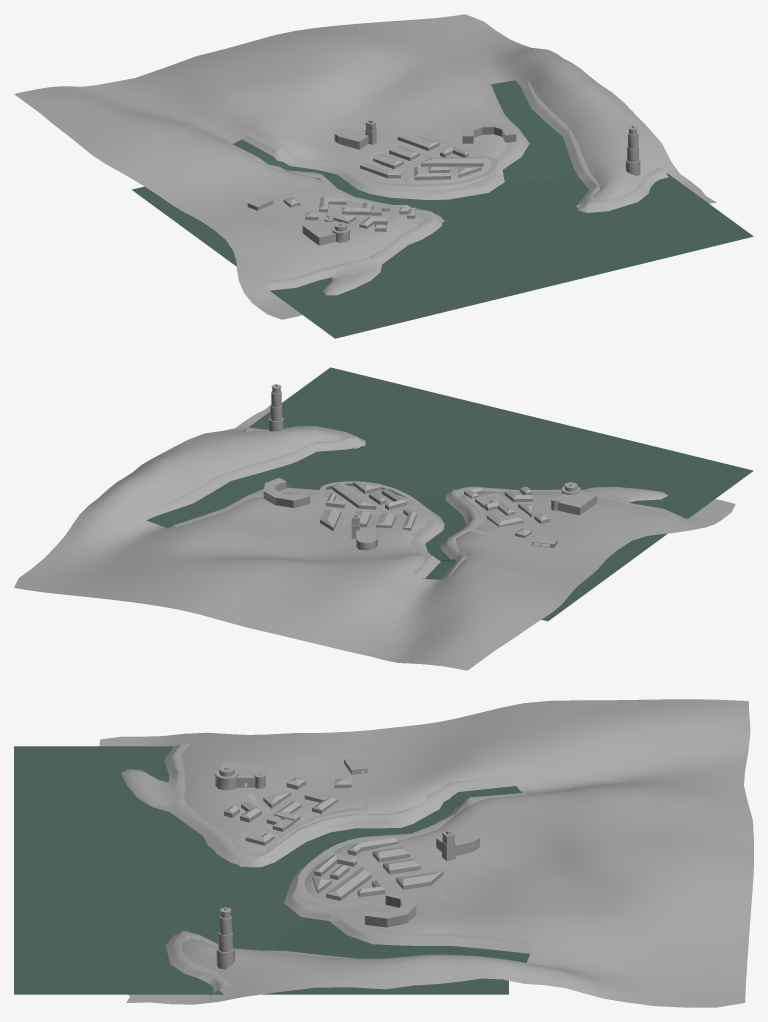
3 renders of one model, top to bottom at view 1: azimuth 30°, elevation 25°; view 2: azimuth 150°, elevation 25°; view 3: azimuth 270°, elevation 25°, orthographic. The views are drawn at different scales.
Visible parts, largest first — view 1: pPlane2, ocean, watersEdge, rivers, polySurface8, museum2, polySurface9, marketplace2, clocktower2, lighthouse2, CSGCombiner3D172; view 2: pPlane2, ocean, watersEdge, rivers, polySurface8, museum2, polySurface9, marketplace2, clocktower2, lighthouse2, CSGCombiner3D172; view 3: pPlane2, ocean, watersEdge, rivers, polySurface8, polySurface9, museum2, marketplace2, clocktower2, lighthouse2, CSGCombiner3D172, CSGCombiner3D152.
Boxes of the visible parts, bbox=[...] form: pPlane2: bbox=[14, 14, 716, 319]; ocean: bbox=[132, 173, 753, 338]; watersEdge: bbox=[225, 79, 668, 295]; rivers: bbox=[233, 80, 578, 215]; polySurface8: bbox=[350, 129, 497, 186]; museum2: bbox=[302, 216, 350, 245]; polySurface9: bbox=[269, 184, 431, 227]; marketplace2: bbox=[462, 122, 516, 143]; clocktower2: bbox=[334, 119, 376, 149]; lighthouse2: bbox=[625, 125, 640, 176]; CSGCombiner3D172: bbox=[421, 157, 483, 166]; pPlane2: bbox=[14, 405, 735, 670]; ocean: bbox=[243, 367, 753, 621]; watersEdge: bbox=[148, 426, 686, 580]; rivers: bbox=[147, 462, 466, 579]; polySurface8: bbox=[290, 481, 432, 535]; museum2: bbox=[551, 482, 596, 515]; polySurface9: bbox=[456, 488, 547, 544]; marketplace2: bbox=[263, 478, 310, 507]; clocktower2: bbox=[351, 514, 377, 550]; lighthouse2: bbox=[269, 384, 283, 431]; CSGCombiner3D172: bbox=[332, 483, 376, 509]; pPlane2: bbox=[99, 699, 753, 1007]; ocean: bbox=[14, 746, 508, 994]; watersEdge: bbox=[121, 742, 533, 995]; rivers: bbox=[258, 786, 529, 962]; polySurface8: bbox=[297, 836, 446, 909]; polySurface9: bbox=[235, 775, 368, 855]; museum2: bbox=[214, 762, 265, 790]; marketplace2: bbox=[365, 891, 416, 927]; clocktower2: bbox=[436, 830, 479, 861]; lighthouse2: bbox=[216, 907, 234, 969]; CSGCombiner3D172: bbox=[326, 865, 371, 900]; CSGCombiner3D152: bbox=[396, 870, 443, 889].
Size of the model in its own units: 606 by 76.73 by 687.
